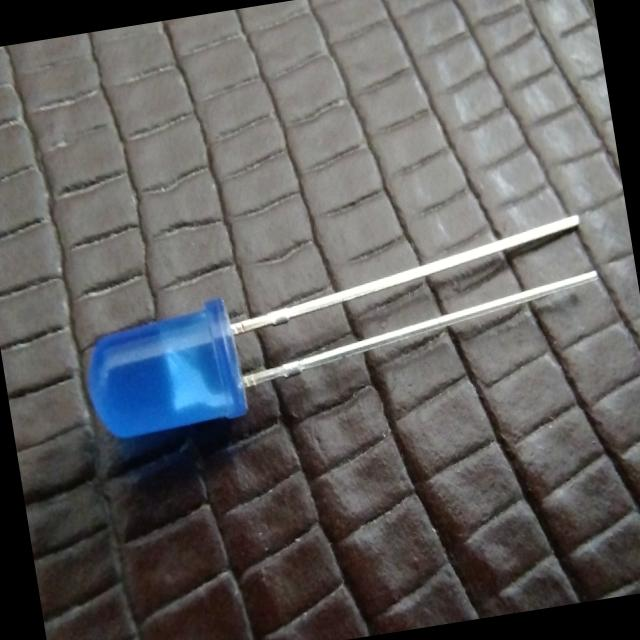blue_led: (76, 294, 251, 445)
